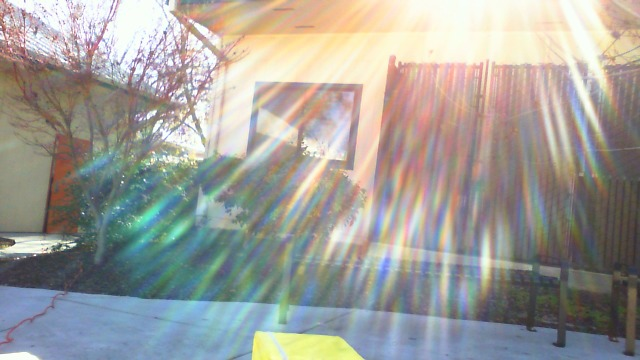cube: (243, 329, 367, 360)
